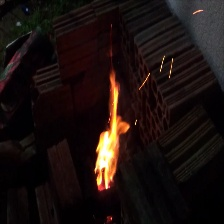fire: (91, 71, 139, 193)
